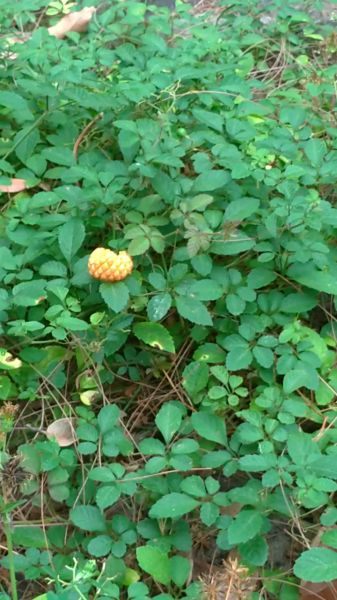eggs: (84, 241, 138, 283)
